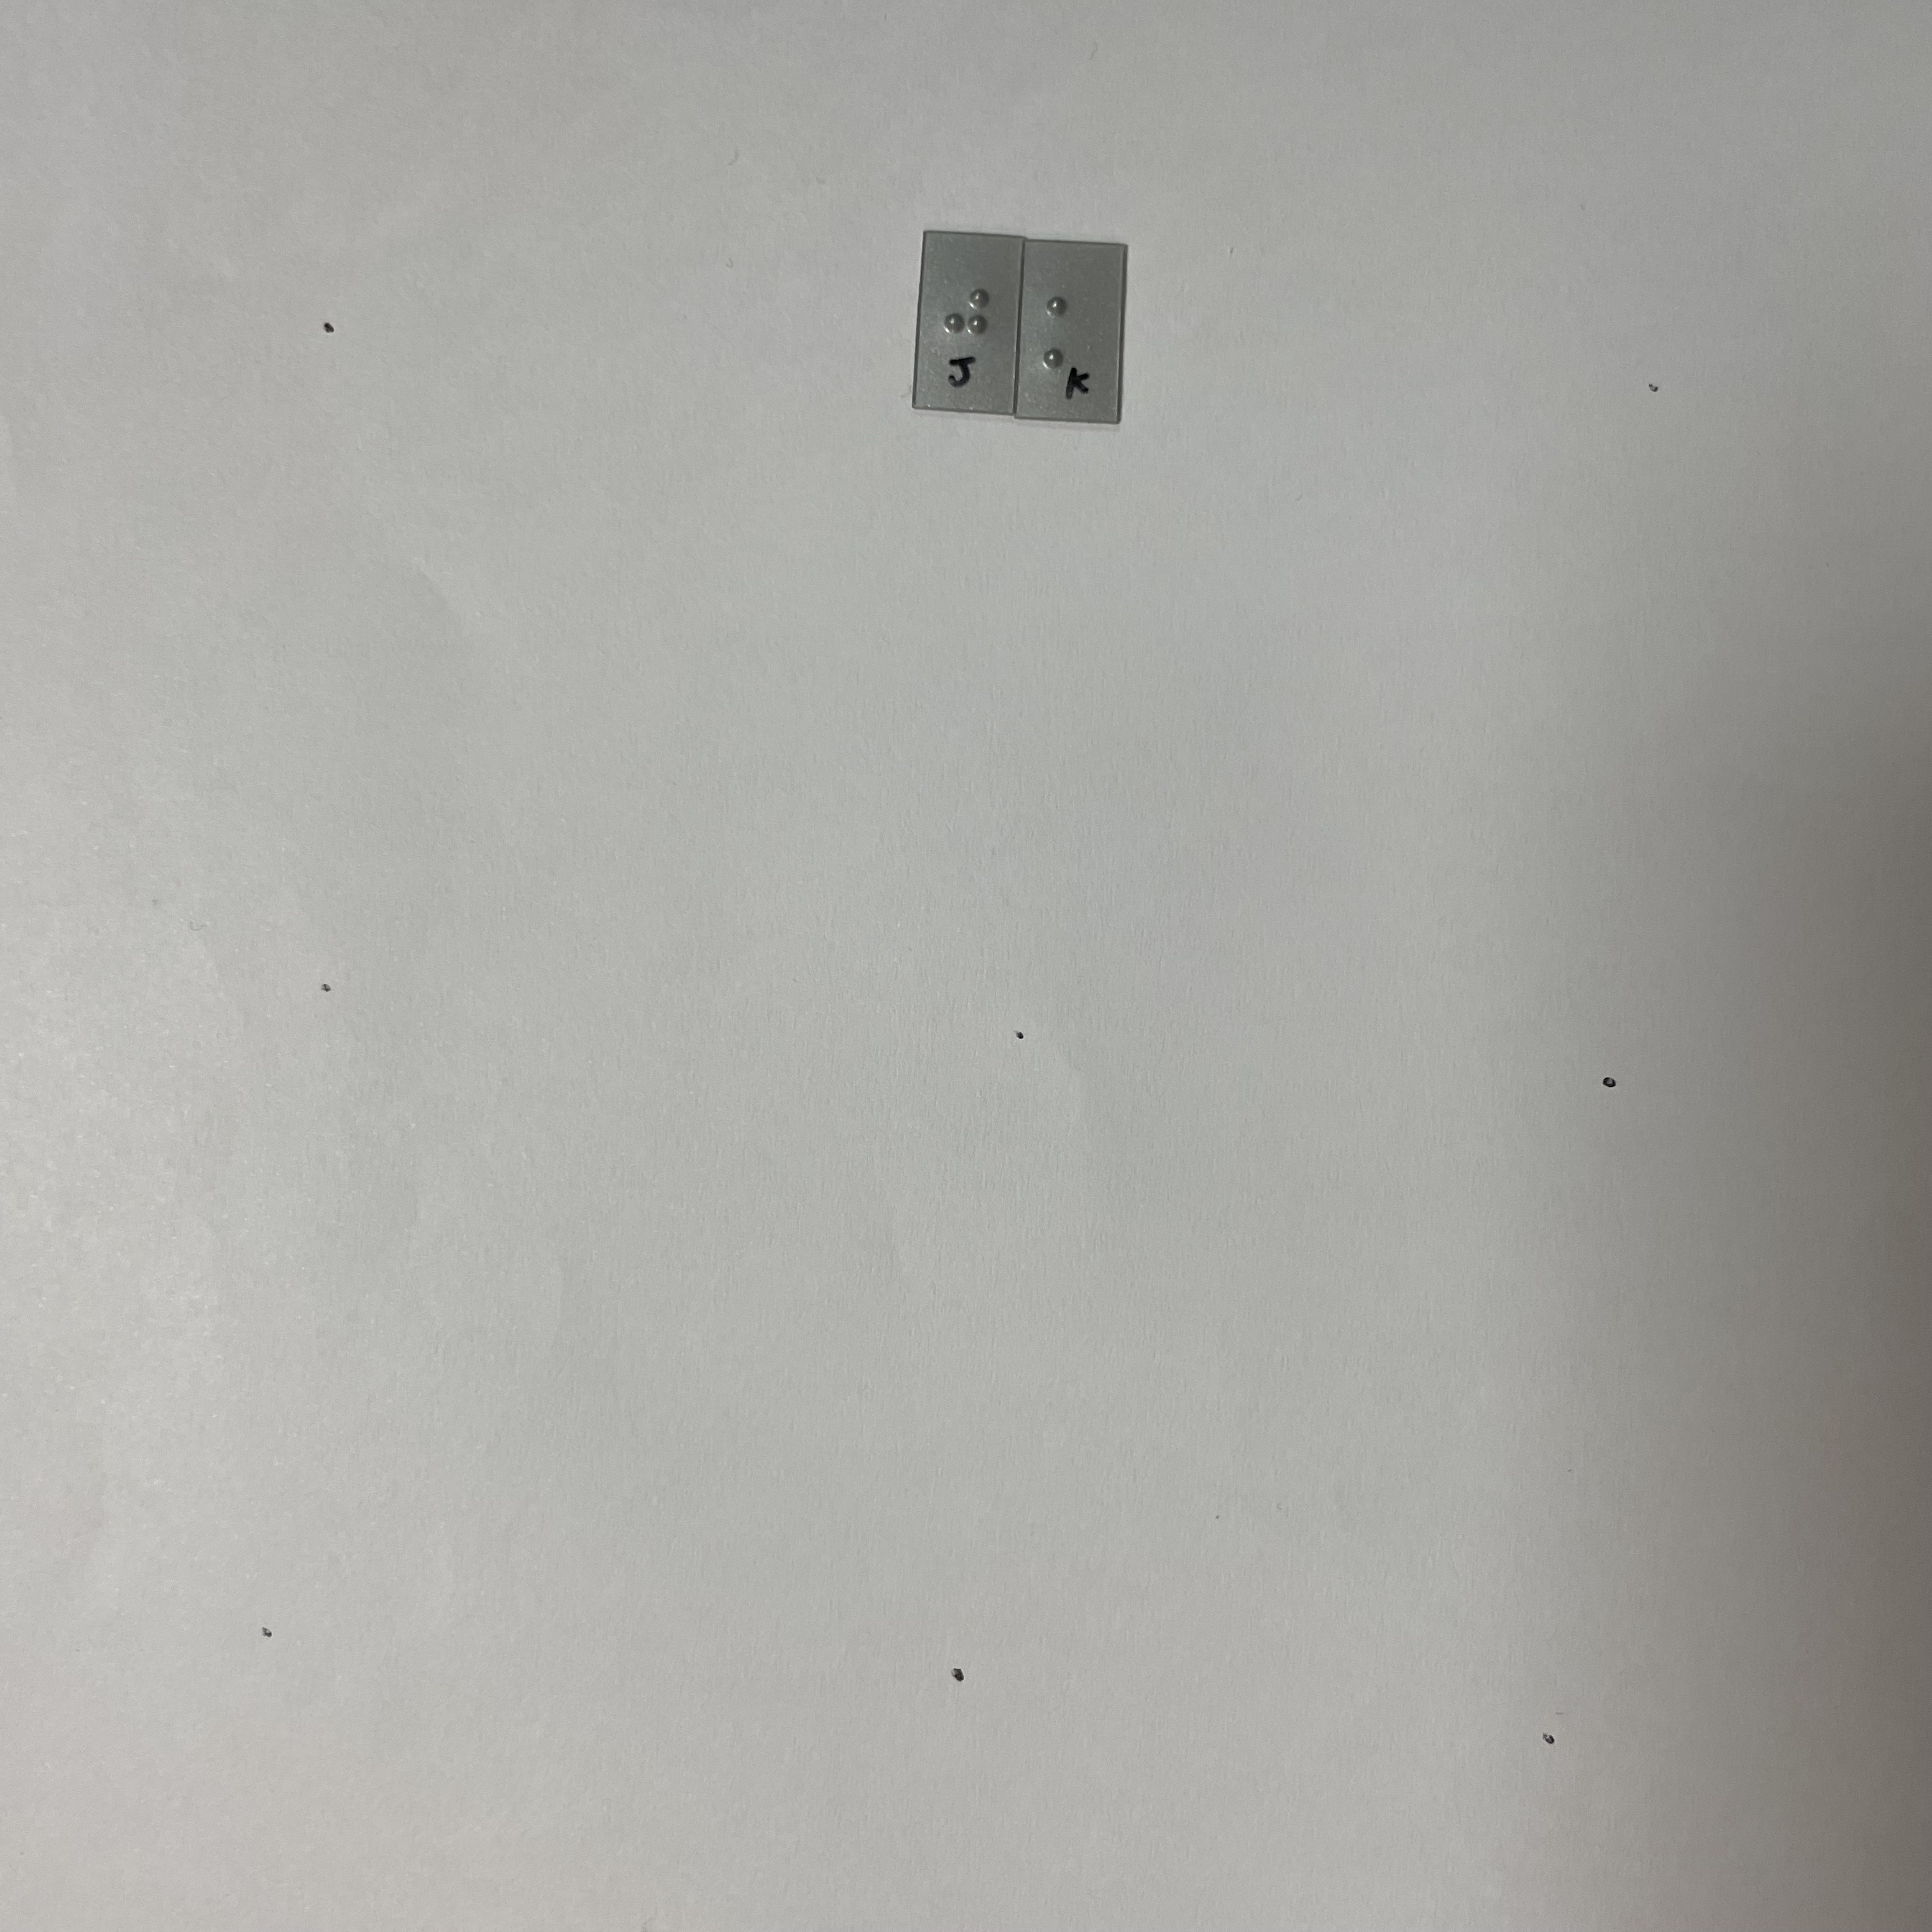j: (935, 279, 999, 374)
k: (1037, 282, 1110, 379)
